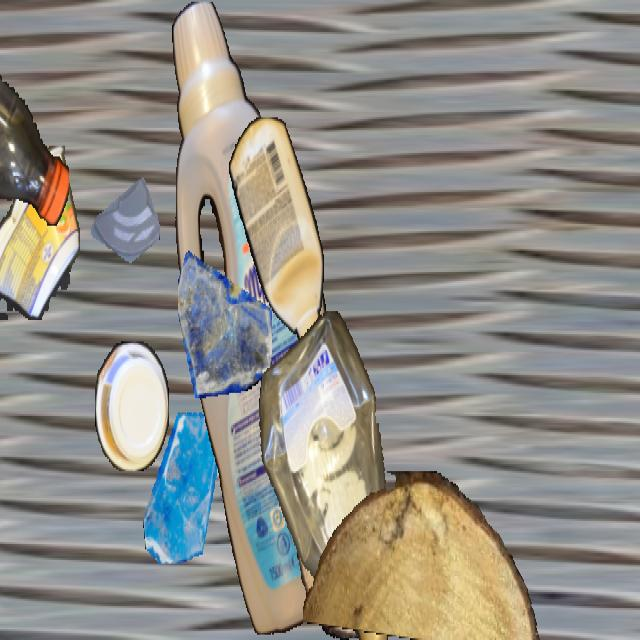glass: (178, 231, 272, 398), (141, 412, 225, 562), (91, 166, 159, 286)
metal: (293, 267, 355, 377)
plastic: (170, 2, 374, 634), (254, 311, 400, 638), (229, 117, 323, 345), (0, 2, 68, 229), (0, 146, 79, 320), (95, 342, 169, 469)
wood: (303, 471, 543, 638), (295, 450, 371, 638)
